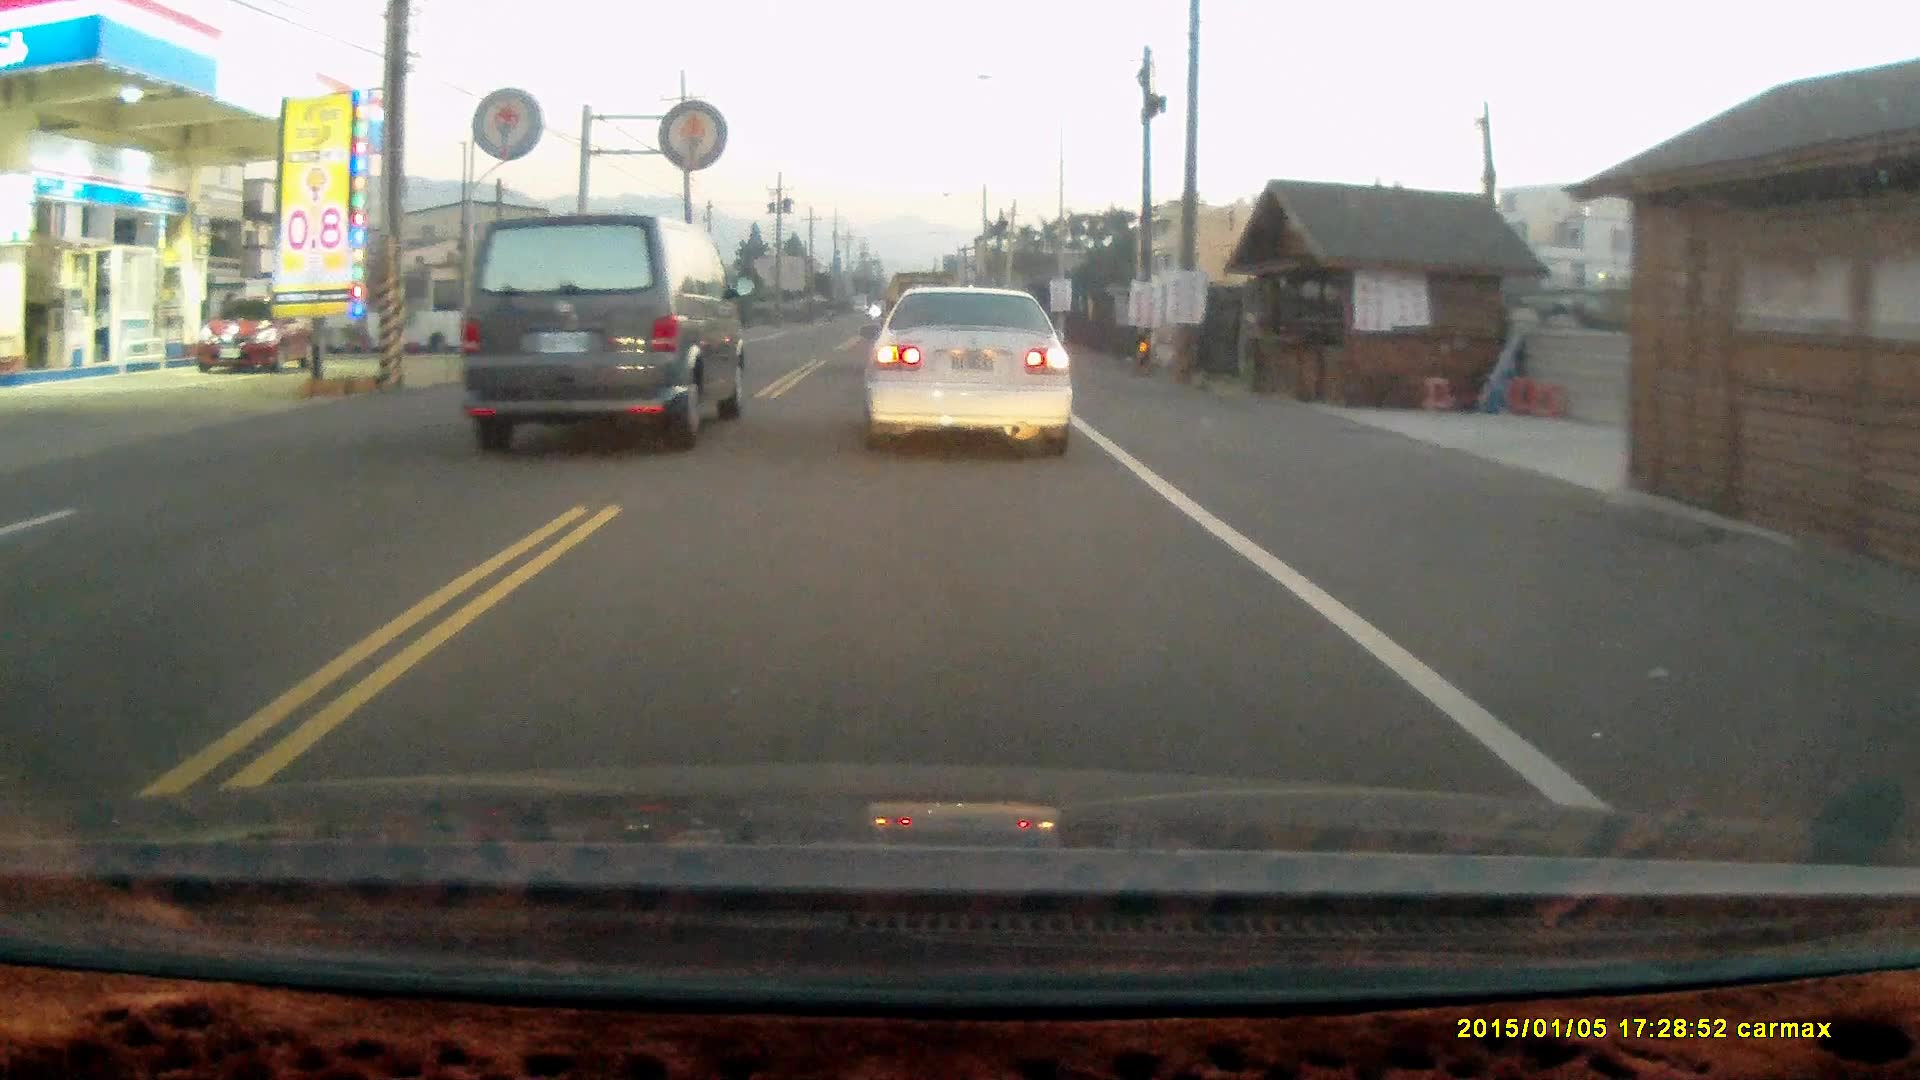vehicle: (454, 212, 746, 450), (862, 282, 1085, 462), (200, 294, 305, 376)
